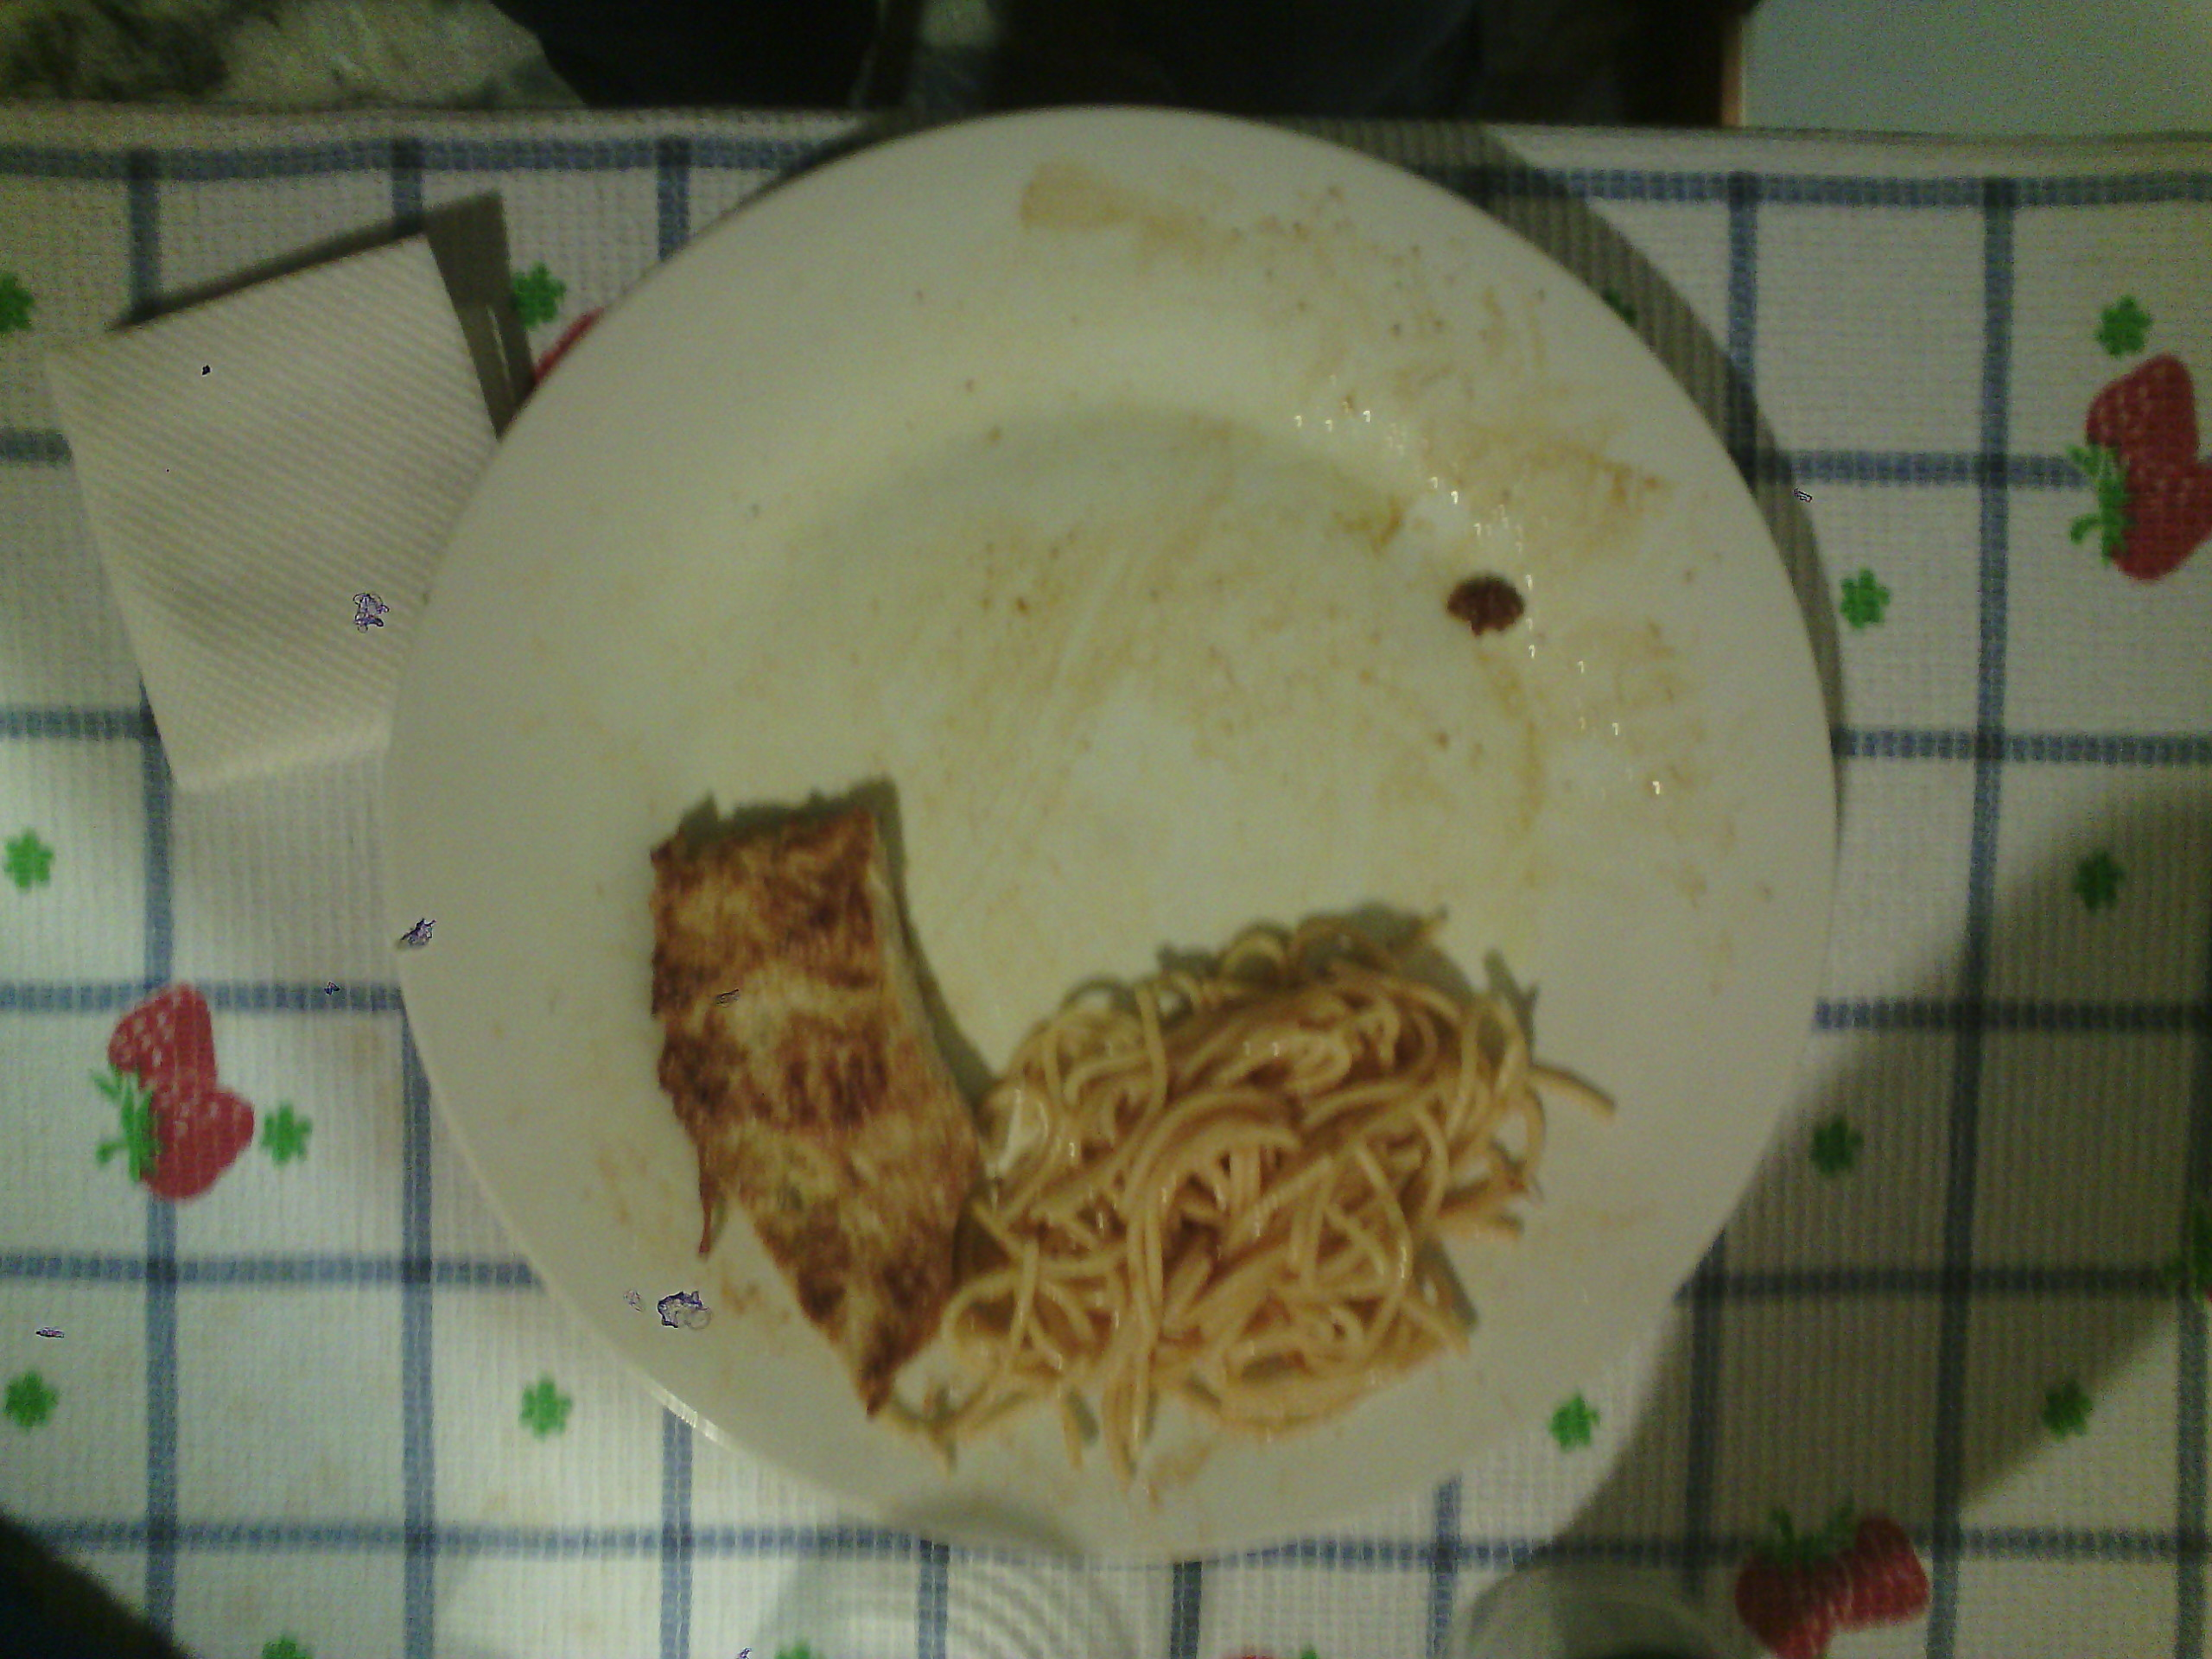41-60: (406, 113, 1831, 1565)
